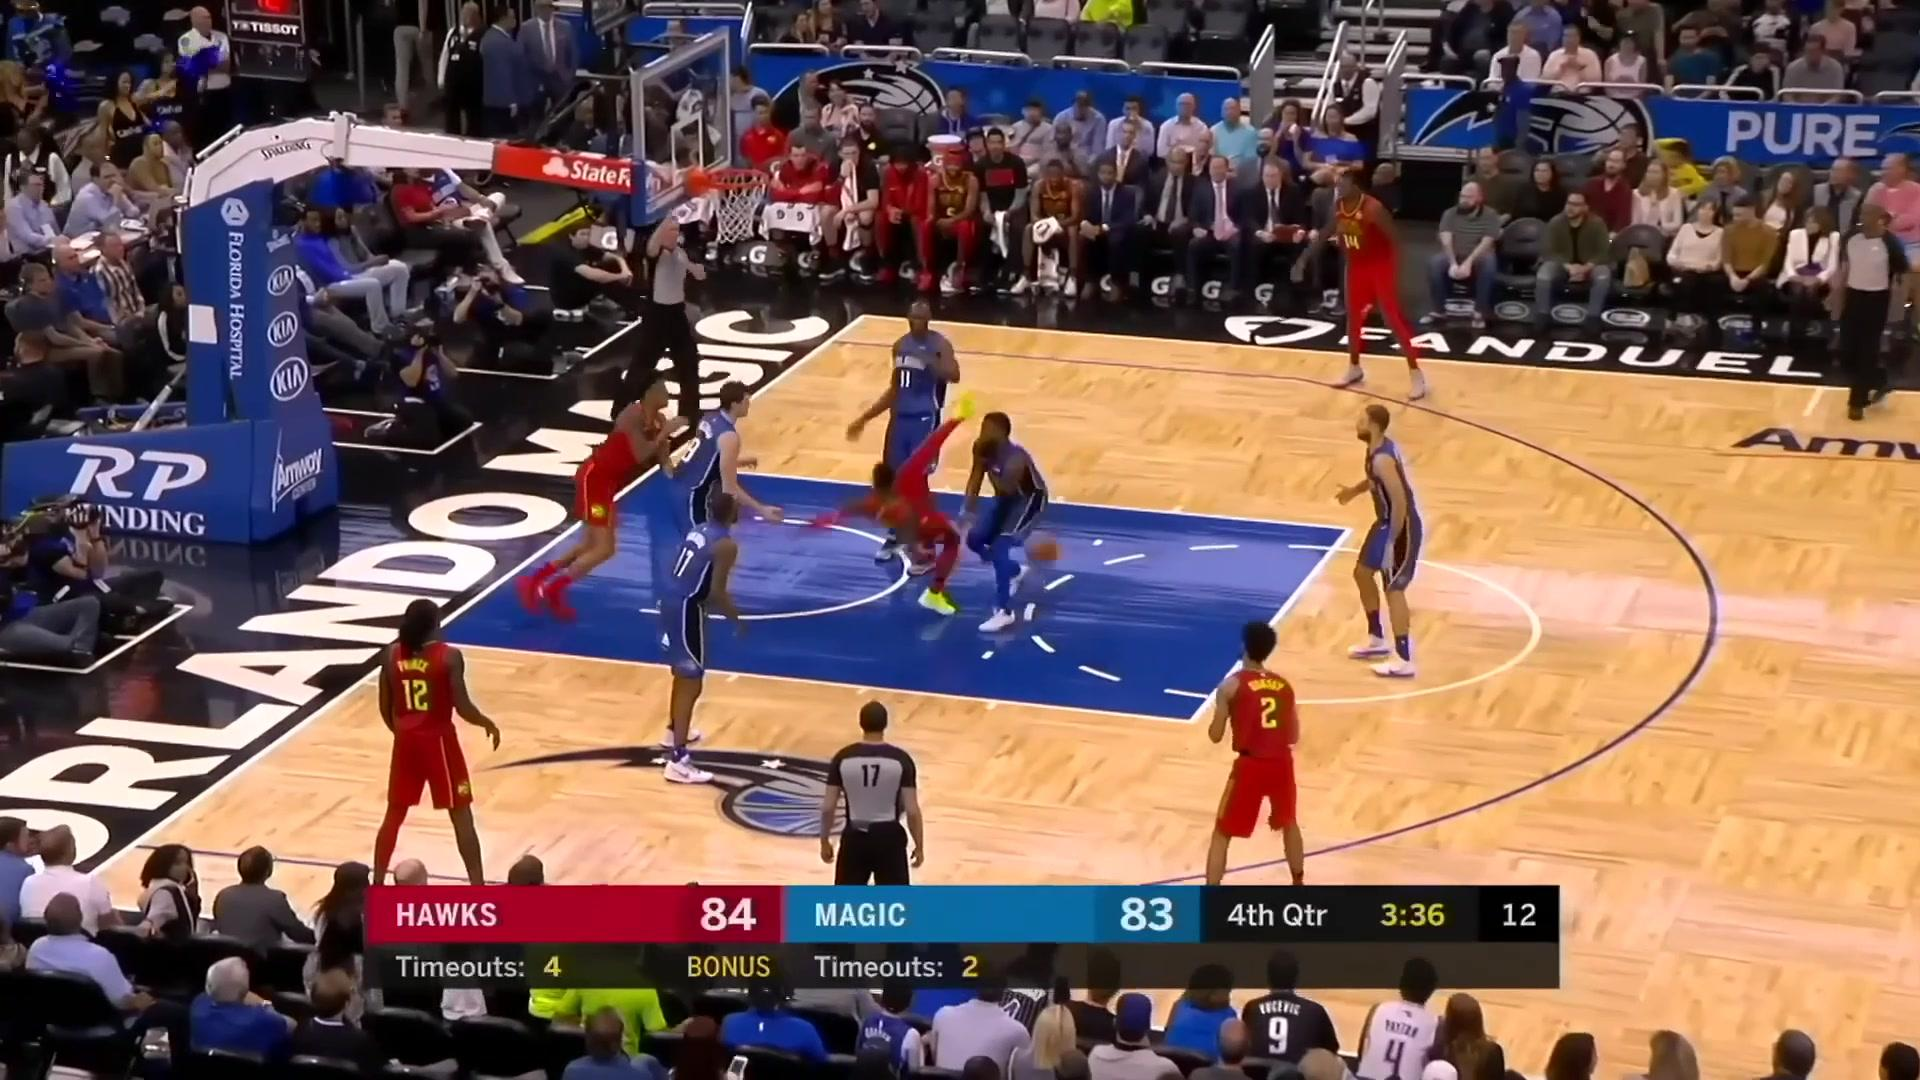foul: (855, 394, 1069, 644)
